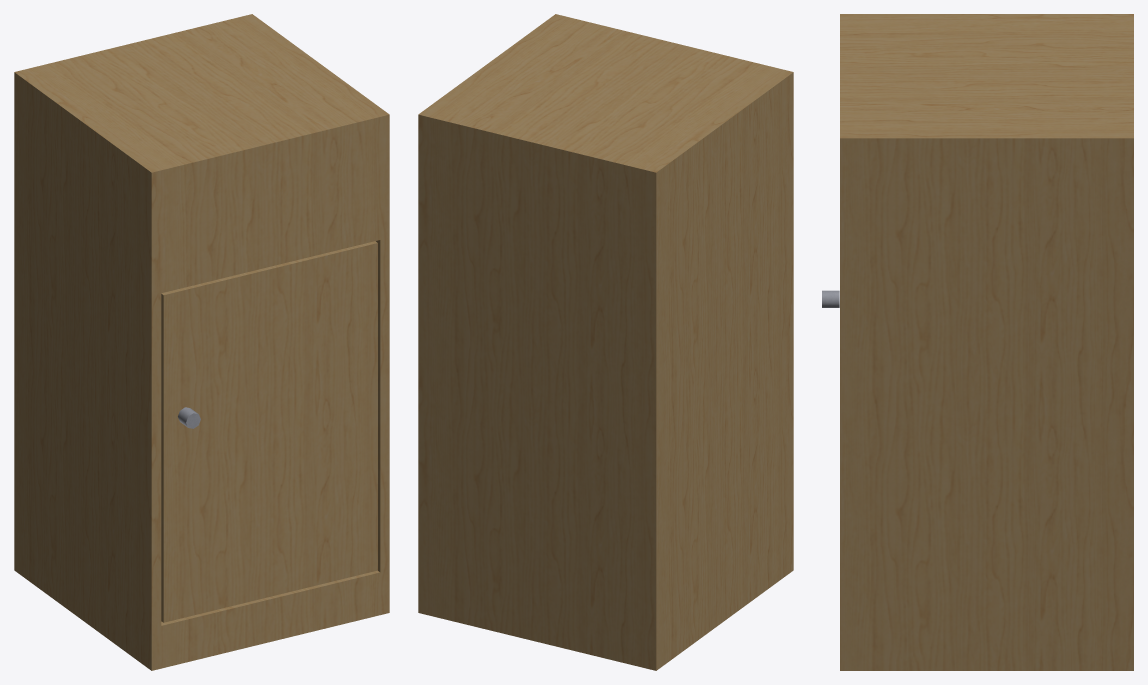
File: LGSeocho25OfficeCabinetWood.fbx
The picture shows the model from 3 angles, left to right: view 1: azimuth 30°, elevation 25°; view 2: azimuth 150°, elevation 25°; view 3: azimuth 270°, elevation 25°; orthographic projection. The views are drawn at different scales.
Parts seen in each view (by area): view 1: LGSeocho25Wood; view 2: LGSeocho25Wood; view 3: LGSeocho25Wood.
Boxes of the visible parts, x1,y1,x2,y2 form: LGSeocho25Wood: (14,14,389,670); LGSeocho25Wood: (418,14,793,670); LGSeocho25Wood: (840,14,1133,670).
Bounding box in the file's own units: 50 × 100 × 53.04.
